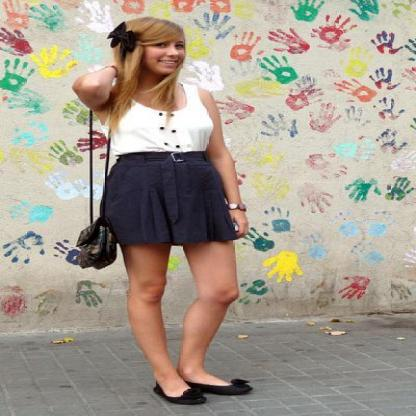bag: (87, 214, 131, 269)
shirt: (100, 78, 212, 154)
shoe: (153, 379, 252, 405)
skirt: (90, 158, 246, 248)
